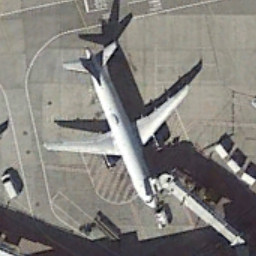Airplane: (35, 35, 204, 220)
